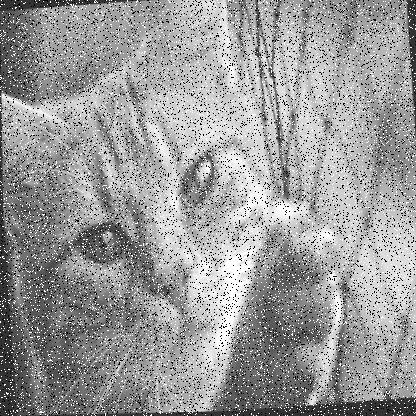cat: (0, 0, 371, 415)
